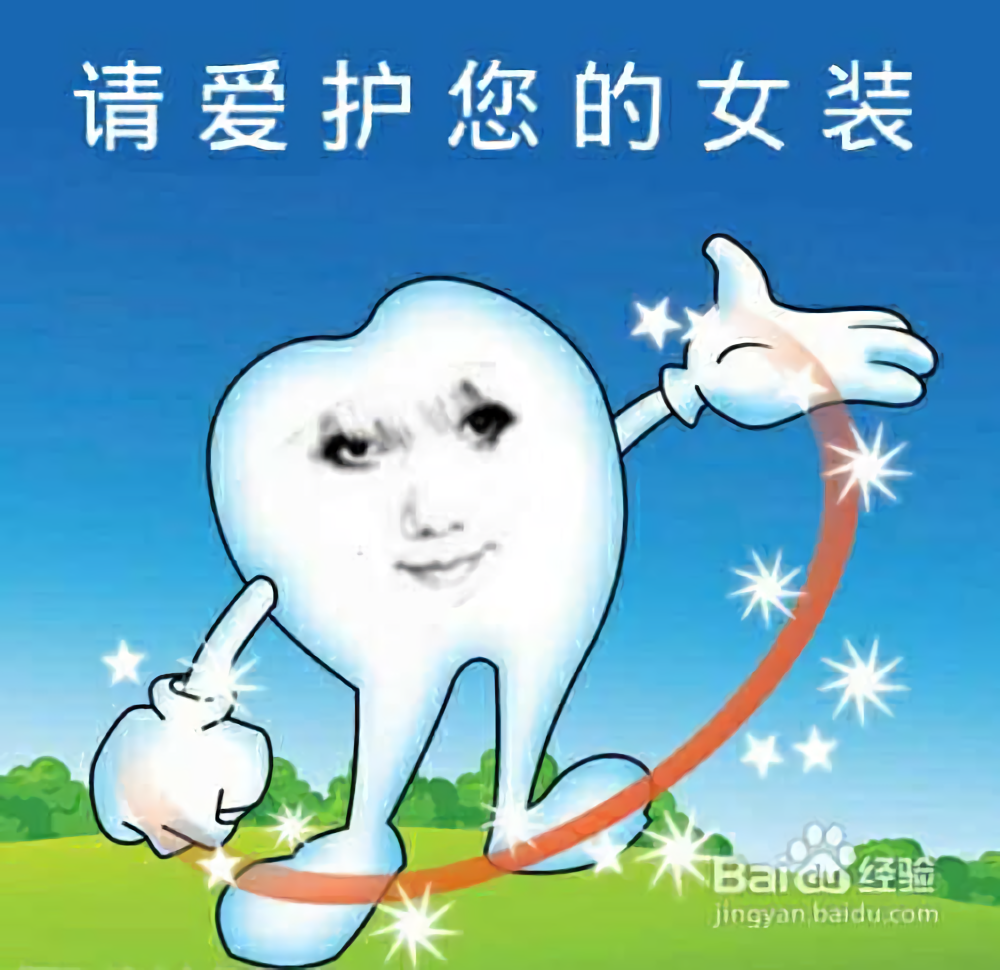dragon: (313, 376, 526, 596)
